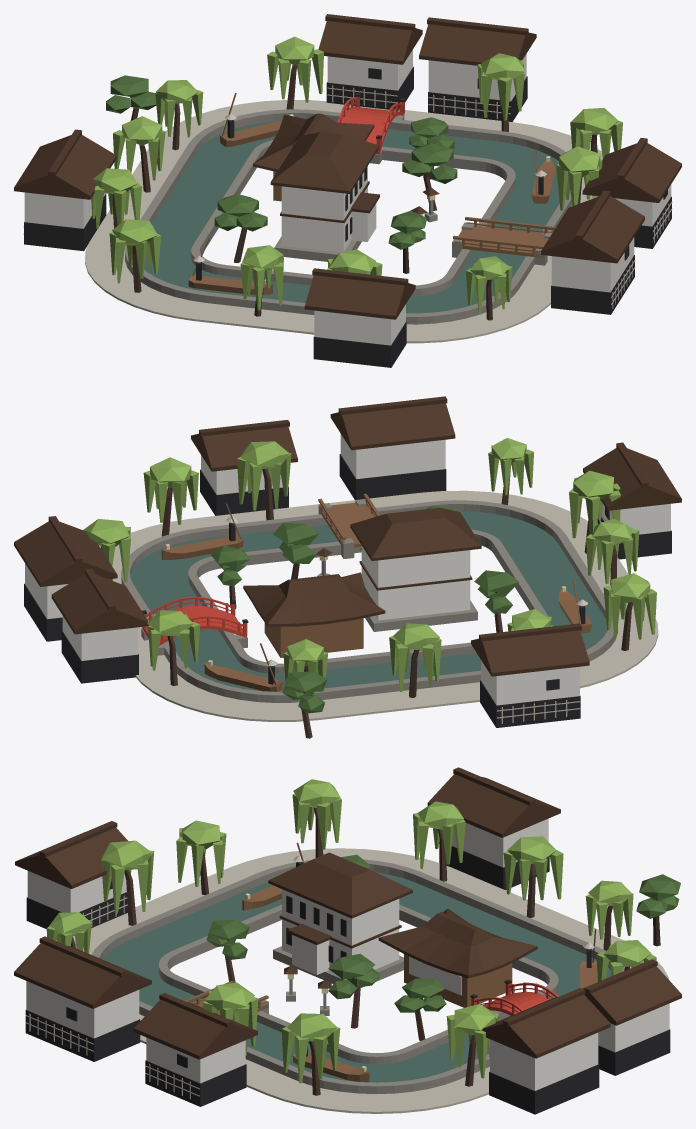
Rendered from yanagawa.glb.
3 views of the same model, one above another, from view 1: azimuth 30°, elevation 25°; view 2: azimuth 150°, elevation 25°; view 3: azimuth 270°, elevation 25° (orthographic). The views are drawn at different scales.
Parts seen in each view (by area): view 1: yanagawa_roof, yanagawa_willow, yanagawa_pave, yanagawa_plaster, yanagawa_water, yanagawa_stone, yanagawa_black, yanagawa_leaf, yanagawa_wood, yanagawa_bark, yanagawa_vermilion; view 2: yanagawa_roof, yanagawa_willow, yanagawa_plaster, yanagawa_pave, yanagawa_stone, yanagawa_water, yanagawa_black, yanagawa_wood, yanagawa_leaf, yanagawa_bark, yanagawa_vermilion; view 3: yanagawa_roof, yanagawa_willow, yanagawa_plaster, yanagawa_stone, yanagawa_pave, yanagawa_black, yanagawa_water, yanagawa_leaf, yanagawa_wood, yanagawa_bark, yanagawa_vermilion.
Boxes of the visible parts, bbox=[...] form: yanagawa_roof: bbox=[14, 14, 681, 319]; yanagawa_willow: bbox=[91, 36, 622, 313]; yanagawa_pave: bbox=[23, 85, 672, 343]; yanagawa_plaster: bbox=[24, 50, 671, 345]; yanagawa_water: bbox=[144, 120, 559, 313]; yanagawa_stone: bbox=[125, 109, 581, 324]; yanagawa_black: bbox=[24, 66, 671, 367]; yanagawa_leaf: bbox=[106, 75, 457, 249]; yanagawa_wood: bbox=[188, 93, 555, 294]; yanagawa_bark: bbox=[112, 65, 597, 320]; yanagawa_vermilion: bbox=[337, 96, 404, 154]; yanagawa_roof: bbox=[14, 396, 681, 676]; yanagawa_willow: bbox=[83, 438, 656, 701]; yanagawa_plaster: bbox=[25, 434, 670, 705]; yanagawa_pave: bbox=[112, 490, 658, 723]; yanagawa_stone: bbox=[121, 499, 617, 702]; yanagawa_water: bbox=[130, 511, 607, 691]; yanagawa_black: bbox=[24, 454, 671, 727]; yanagawa_wood: bbox=[161, 493, 591, 691]; yanagawa_leaf: bbox=[210, 505, 519, 713]; yanagawa_bark: bbox=[110, 465, 632, 738]; yanagawa_vermilion: bbox=[142, 596, 247, 645]; yanagawa_roof: bbox=[14, 767, 681, 1059]; yanagawa_willow: bbox=[46, 779, 656, 1083]; yanagawa_plaster: bbox=[26, 818, 669, 1090]; yanagawa_stone: bbox=[92, 859, 624, 1093]; yanagawa_pave: bbox=[25, 848, 668, 1113]; yanagawa_black: bbox=[25, 842, 670, 1114]; yanagawa_water: bbox=[102, 872, 610, 1082]; yanagawa_leaf: bbox=[206, 854, 680, 1012]; yanagawa_wood: bbox=[184, 842, 597, 1082]; yanagawa_bark: bbox=[70, 807, 660, 1095]; yanagawa_vermilion: bbox=[471, 982, 558, 1015].
Bounding box in the file's own units: 20.72 × 3.68 × 20.9.
